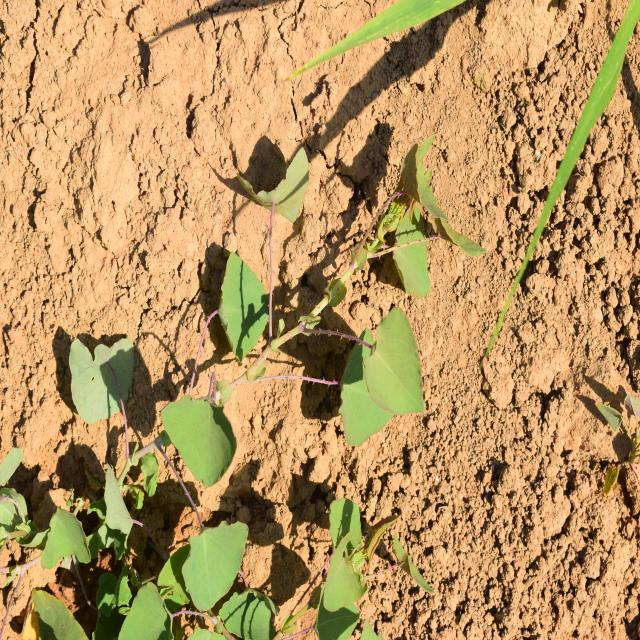Asiatic_Smartweed: (341, 126, 478, 461), (146, 393, 266, 603), (208, 152, 312, 366)
